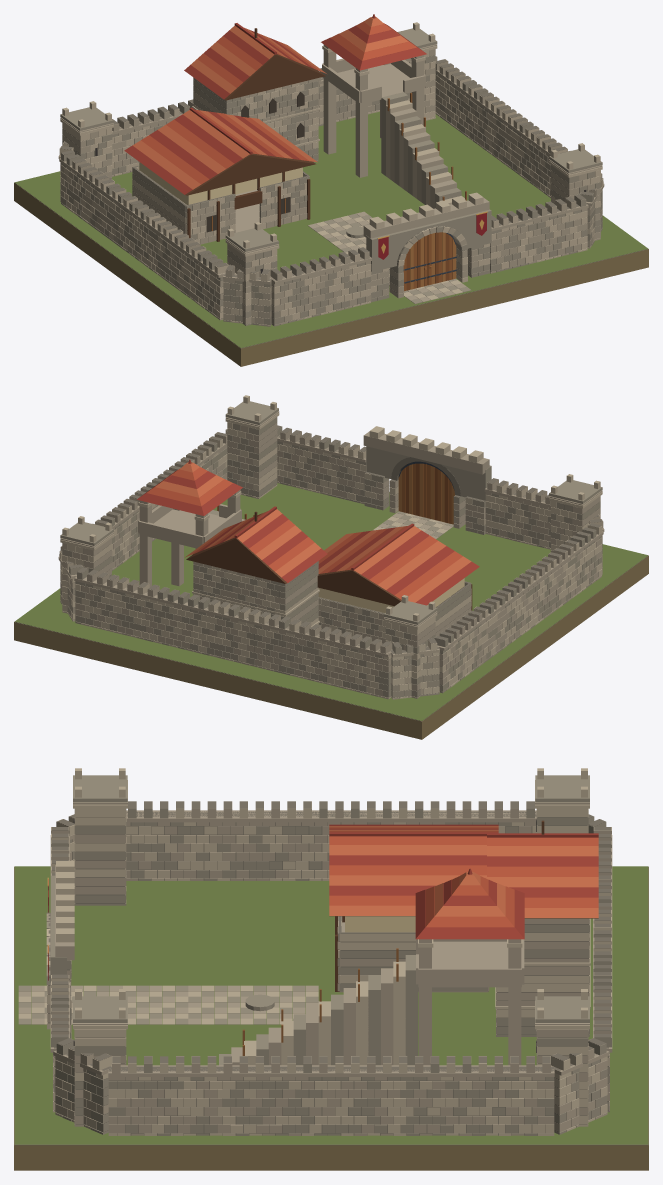
Rendered from stockade-nivel-4.glb.
The picture shows the model from 3 angles, top to bottom: view 1: azimuth 30°, elevation 25°; view 2: azimuth 150°, elevation 25°; view 3: azimuth 270°, elevation 25°; orthographic projection. The views are drawn at different scales.
Parts seen in each view (by area): view 1: stone_4_b1a38d, stone_4_a09682, stone_4_738449, stone_4_c3b49a, stone_4_8d7955, stone_4_9e4235, stone_4_82796a, stone_4_c66c49, stone_4_63422c, stone_4_b9583c, stone_4_dcc89b, stone_4_4b4238 (+2 smaller); view 2: stone_4_b1a38d, stone_4_a09682, stone_4_c3b49a, stone_4_738449, stone_4_8d7955, stone_4_82796a, stone_4_9e4235, stone_4_c66c49, stone_4_b9583c, stone_4_63422c, stone_4_dcc89b, left_4_9c6237.001 (+3 smaller); view 3: stone_4_738449, stone_4_b1a38d, stone_4_c3b49a, stone_4_a09682, stone_4_82796a, stone_4_8d7955, stone_4_9e4235, stone_4_b9583c, stone_4_c66c49, stone_4_dcc89b.
Part boxes in pixels (x1,y1,x2,y2): stone_4_b1a38d: (58,44,604,326); stone_4_a09682: (60,28,602,326); stone_4_738449: (15,111,647,347); stone_4_c3b49a: (59,22,603,323); stone_4_8d7955: (14,183,648,366); stone_4_9e4235: (124,14,426,194); stone_4_82796a: (14,50,647,348); stone_4_c66c49: (132,16,408,189); stone_4_63422c: (185,54,325,241); stone_4_b9583c: (141,21,416,184); stone_4_dcc89b: (139,162,302,204); stone_4_4b4238: (206,92,304,232); stone_4_b1a38d: (58,411,604,699); stone_4_a09682: (60,401,602,697); stone_4_c3b49a: (59,395,602,699); stone_4_738449: (14,483,647,720); stone_4_8d7955: (14,555,648,739); stone_4_82796a: (15,422,648,721); stone_4_9e4235: (137,459,479,605); stone_4_c66c49: (155,462,471,602); stone_4_b9583c: (147,467,462,599); stone_4_63422c: (186,538,472,610); stone_4_dcc89b: (318,578,464,612); left_4_9c6237.001: (427,464,451,523); stone_4_738449: (14,866,648,1144); stone_4_b1a38d: (18,780,612,1135); stone_4_c3b49a: (18,768,611,1135); stone_4_a09682: (18,775,611,1135); stone_4_82796a: (14,801,648,1145); stone_4_8d7955: (14,867,648,1170); stone_4_9e4235: (329,824,598,939); stone_4_b9583c: (329,827,598,927); stone_4_c66c49: (329,826,598,917); stone_4_dcc89b: (345,916,415,932).
Size of the model in its own units: 32.8 by 12.38 by 31.6.
